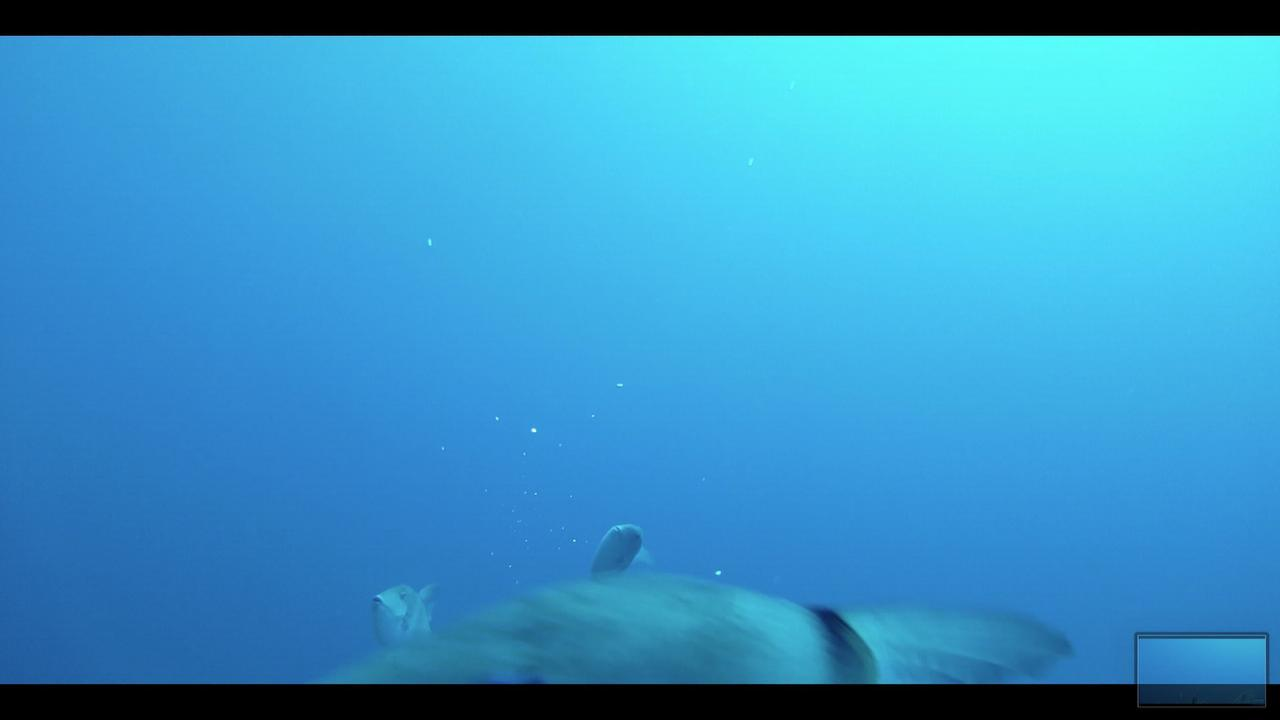balistes: (364, 575, 443, 648), (592, 511, 669, 582)
